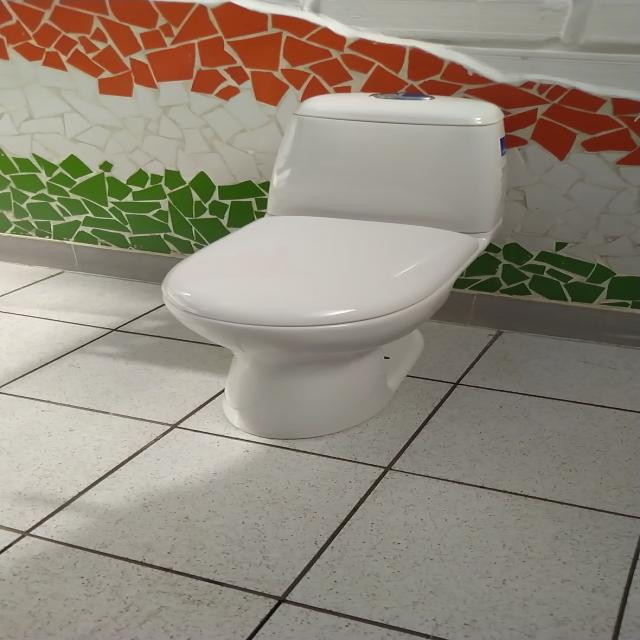toilet: (160, 91, 508, 440)
